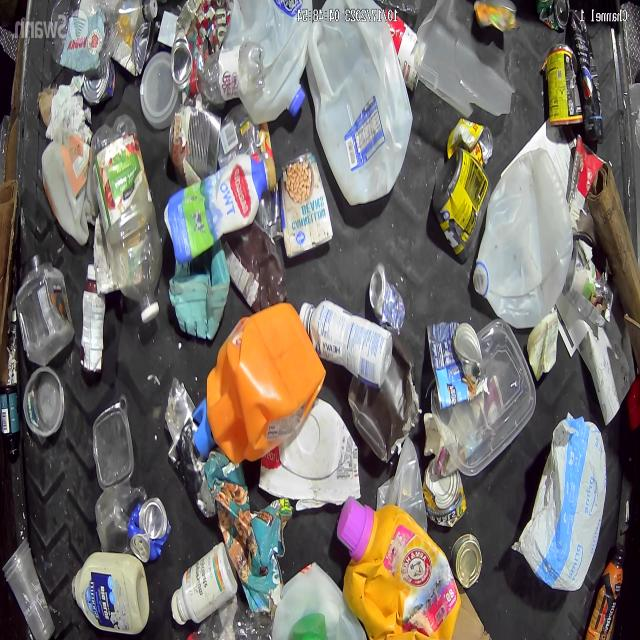can: (280, 152, 333, 259), (427, 320, 482, 409), (168, 105, 222, 180), (547, 45, 584, 126), (422, 459, 466, 527), (129, 498, 170, 560), (369, 265, 405, 335), (452, 533, 482, 588), (80, 62, 115, 106), (170, 37, 195, 90), (132, 22, 154, 74), (536, 0, 570, 32)
milk_jug: (473, 117, 573, 328), (312, 11, 411, 206), (222, 0, 311, 116), (273, 562, 369, 640), (42, 136, 94, 246)
non_white_jug: (206, 302, 326, 463), (335, 493, 463, 640)
plastic_bottle: (88, 111, 164, 328), (190, 41, 265, 102)
